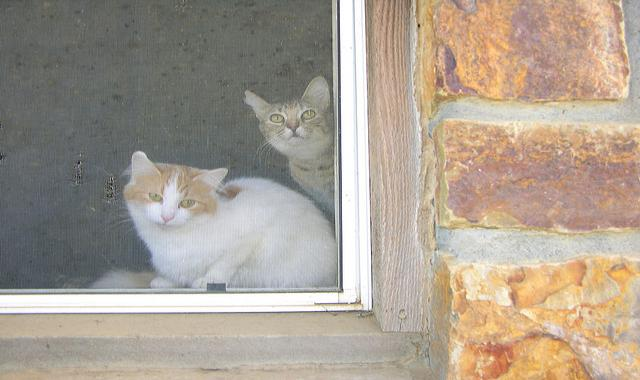cat: (106, 148, 360, 306), (250, 76, 366, 189)
